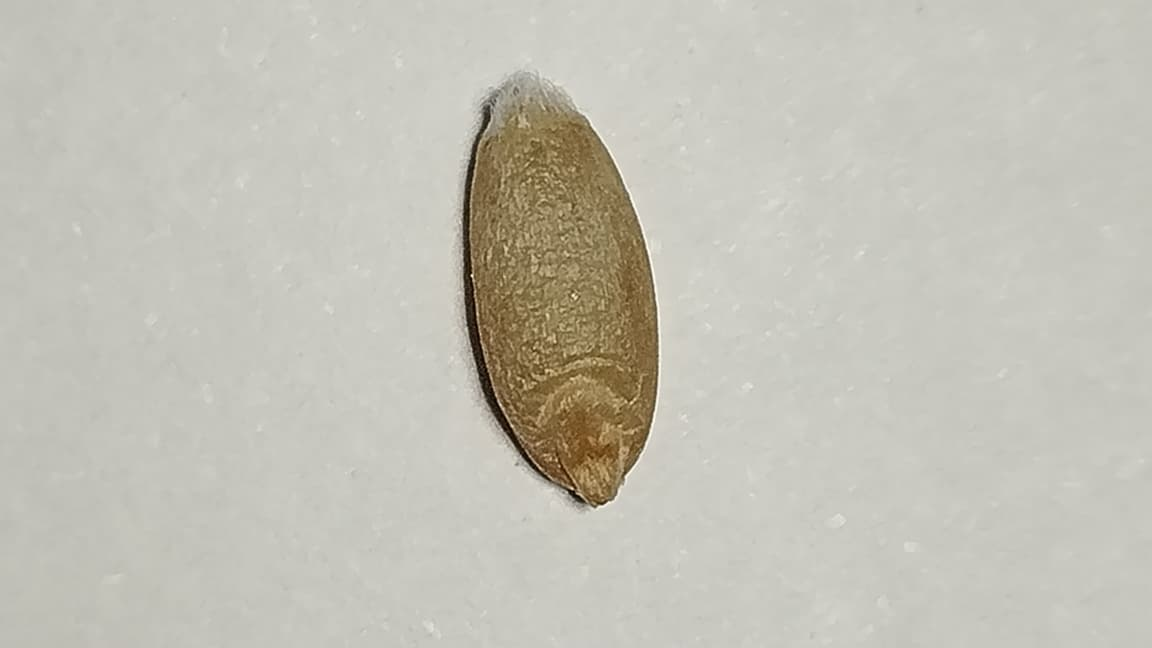healthy: (469, 93, 658, 502)
